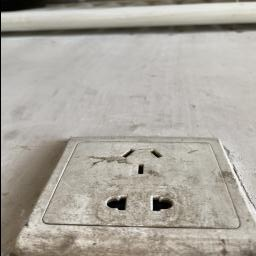outlet: (20, 130, 256, 256)
